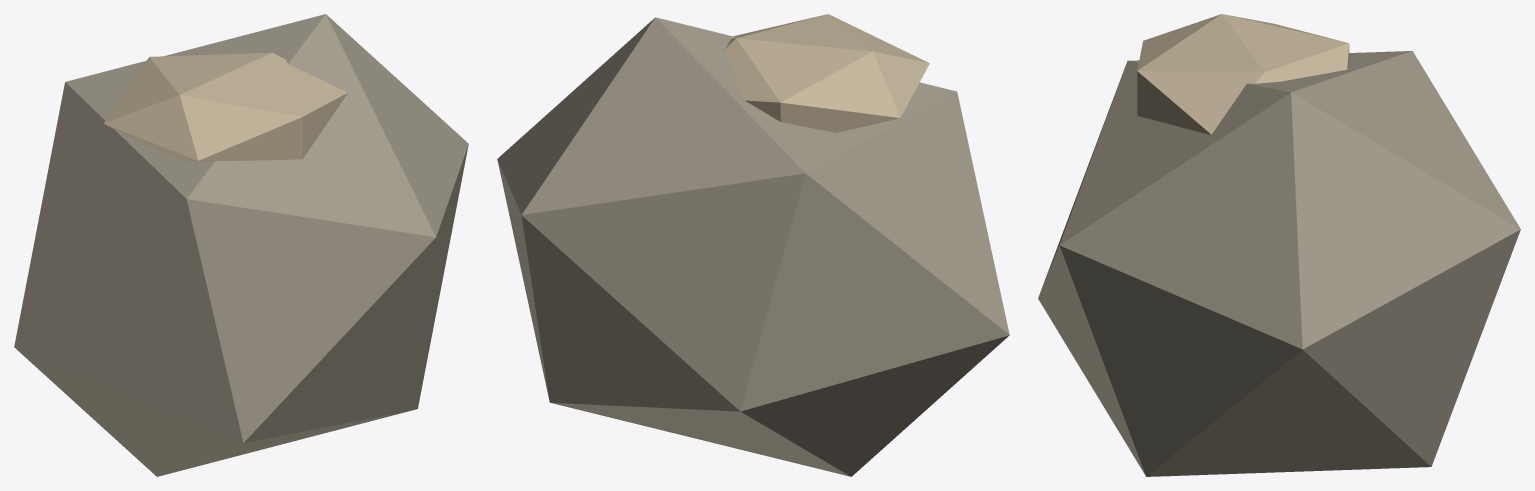
The model's file is boulder.glb.
3 renders of one model, left to right at view 1: azimuth 30°, elevation 25°; view 2: azimuth 150°, elevation 25°; view 3: azimuth 270°, elevation 25°, orthographic. The views are drawn at different scales.
Parts seen in each view (by area): view 1: 0_stone, 0_stoneLight; view 2: 0_stone, 0_stoneLight; view 3: 0_stone, 0_stoneLight.
Boxes of the visible parts, x1,y1,x2,y2 form: 0_stone: (14,14,468,476); 0_stoneLight: (103,52,347,161); 0_stone: (497,17,1009,476); 0_stoneLight: (724,14,929,132); 0_stone: (1038,51,1520,476); 0_stoneLight: (1137,14,1349,134).
Bounding box in the file's own units: 2.66 × 2.19 × 2.2.
